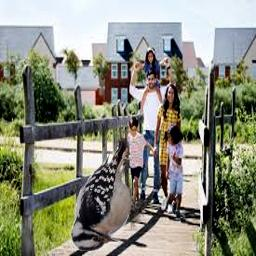Woodpecker: (70, 138, 147, 251)
